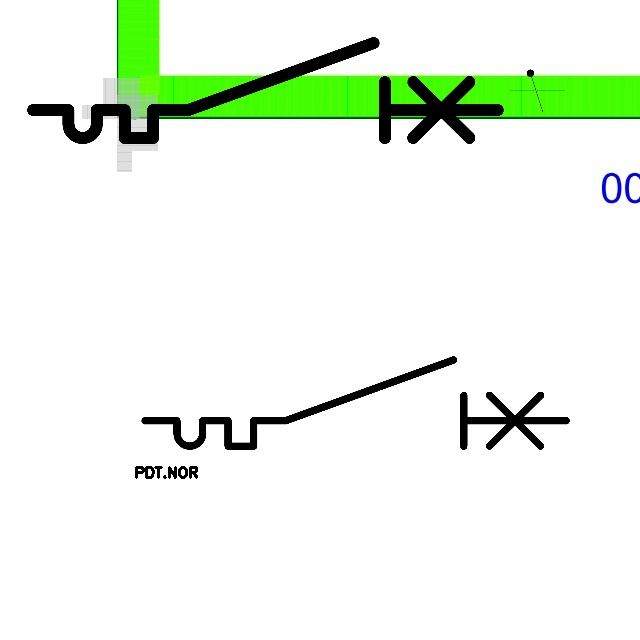interruptor_termomagnetico: (21, 31, 509, 150), (134, 349, 577, 457)
